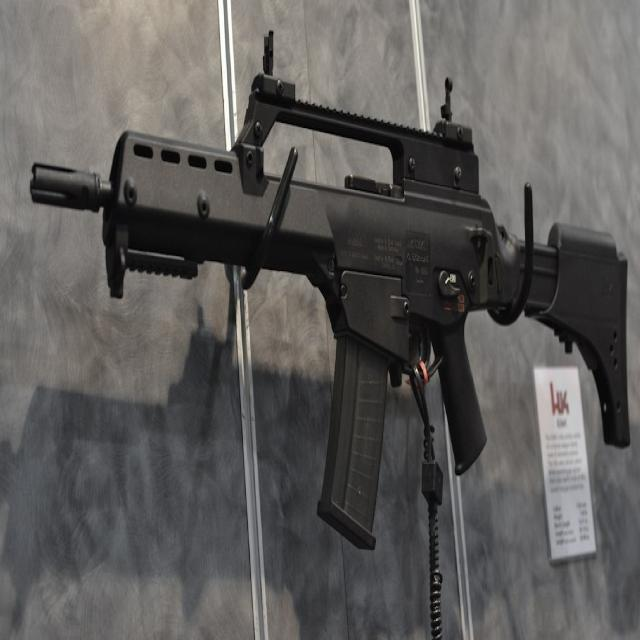firearm: (28, 26, 632, 556)
